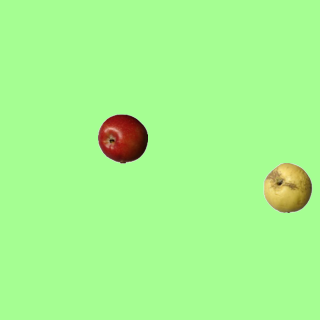Apple Braeburn: (97, 113, 147, 163)
Apple Golden 1: (262, 162, 312, 212)
